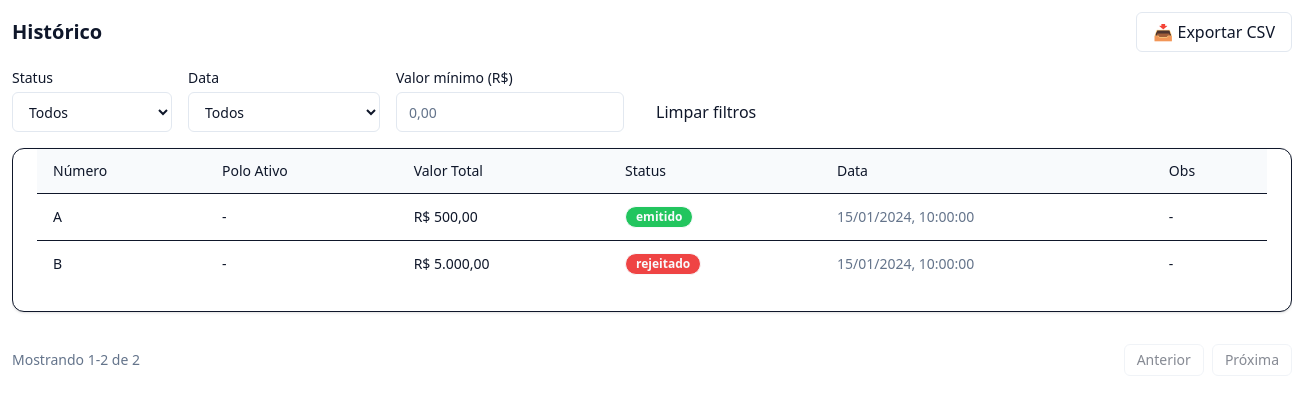
Test: Historico › limpa filtros ao clicar em limpar
The image size is (1304, 393).
Expected: the text "A" is shown, x1=37 y1=194 x2=206 y2=240
Select "Rejeitado" in the dropdown labelled "Status" at point(92, 112), box x1=12 y1=92 x2=172 y2=132
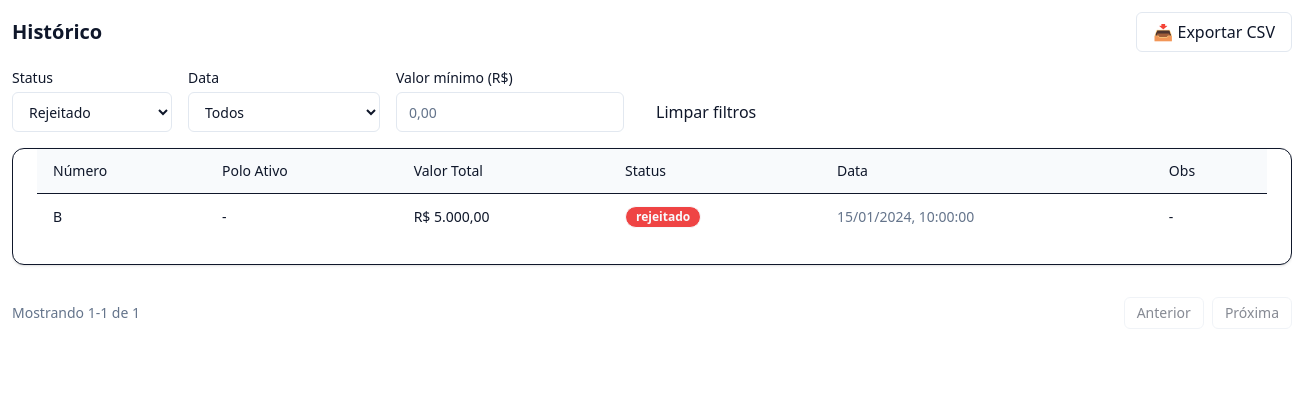
Click the button "Limpar filtros" at point(706, 112), box x1=640 y1=92 x2=772 y2=132
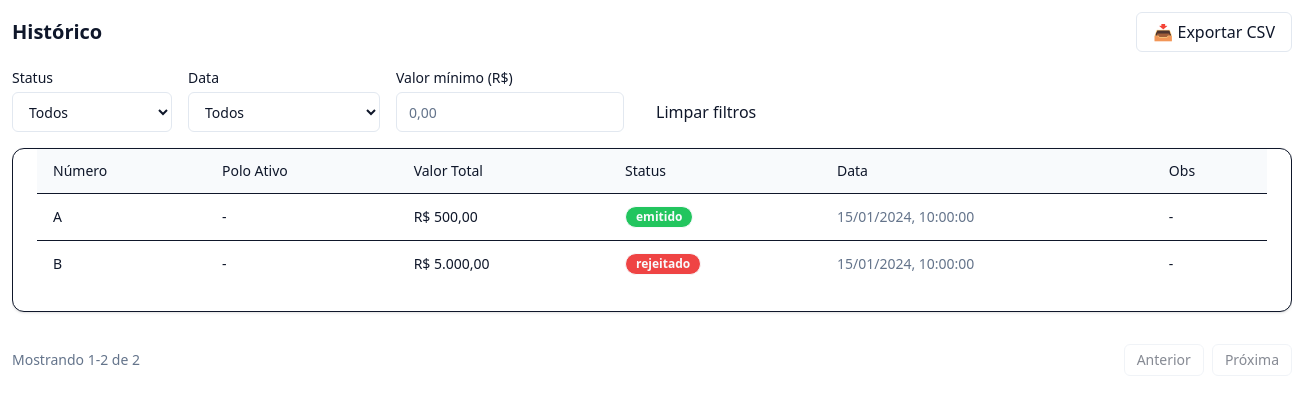
Expected: the text "B" is shown, x1=37 y1=240 x2=206 y2=287
Result: the text "A" is shown at x1=37 y1=194 x2=206 y2=240
